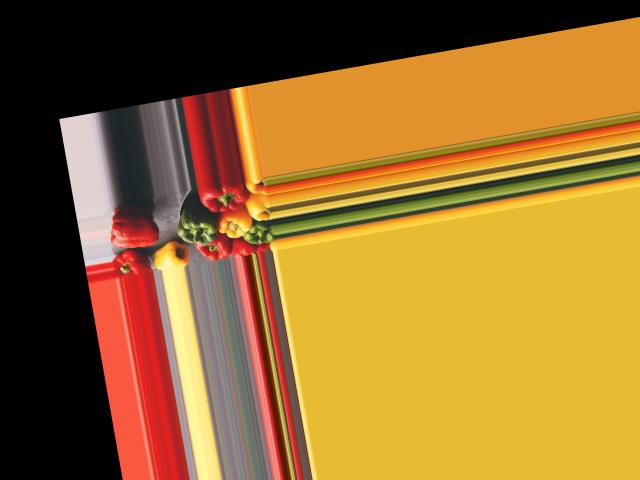bell_pepper: (109, 247, 152, 276)
